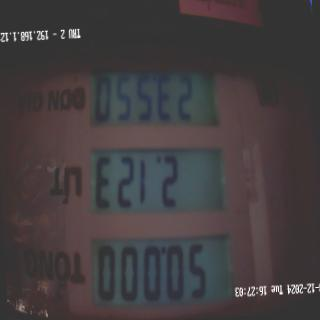screen: (79, 46, 242, 318)
